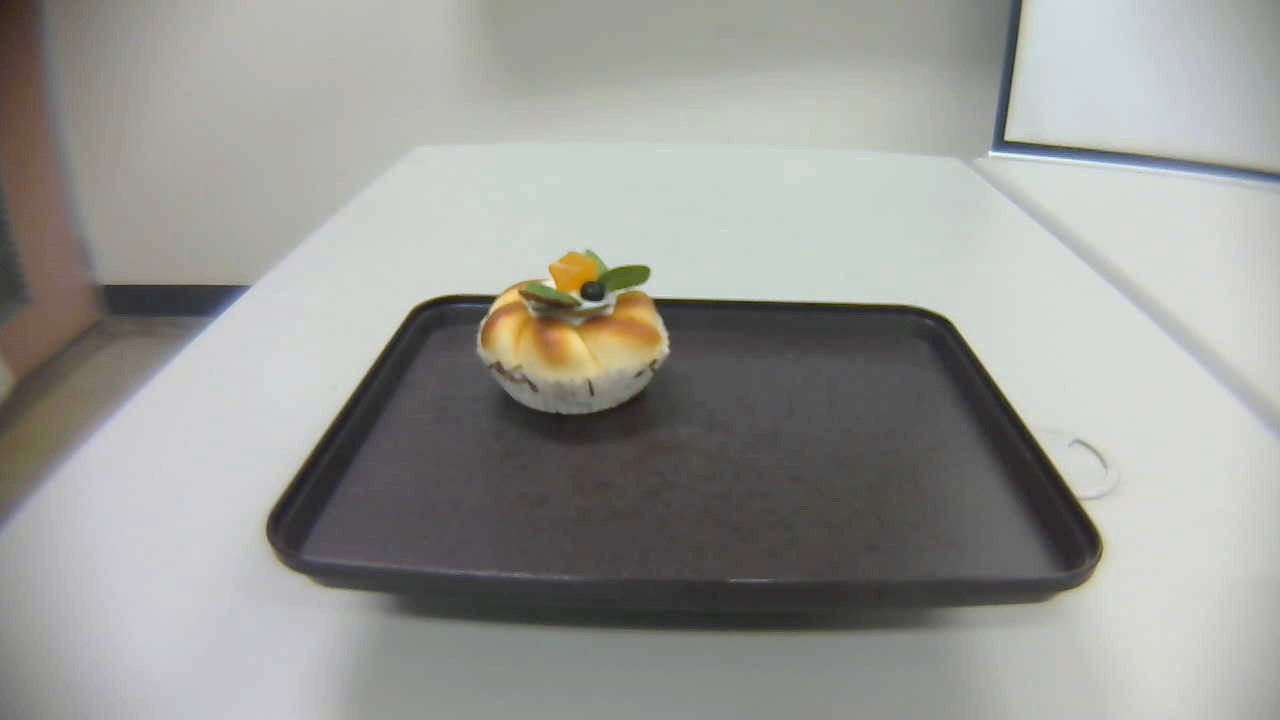fruit tart: (473, 250, 669, 417)
